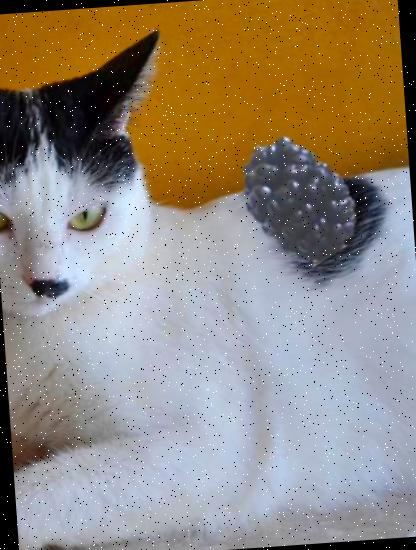Mulberry: (226, 127, 368, 269)
